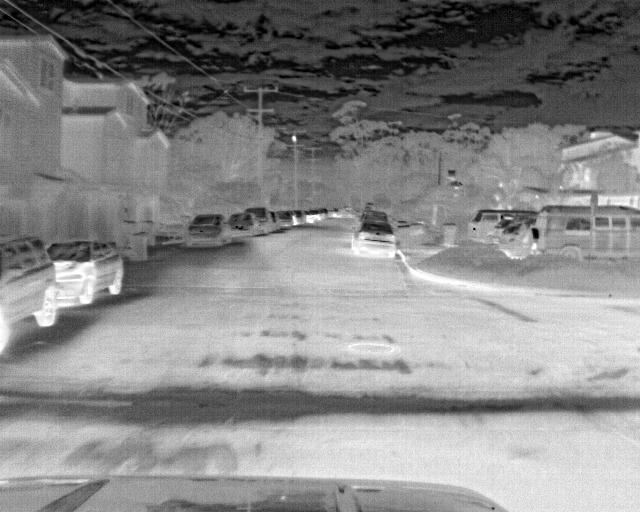car: (0, 233, 58, 352), (531, 203, 639, 262), (45, 240, 124, 308), (465, 207, 535, 243), (180, 212, 233, 249), (349, 223, 396, 254), (498, 221, 532, 259), (236, 206, 273, 233), (224, 213, 255, 239), (485, 218, 508, 249), (272, 211, 296, 227), (291, 208, 307, 225)
